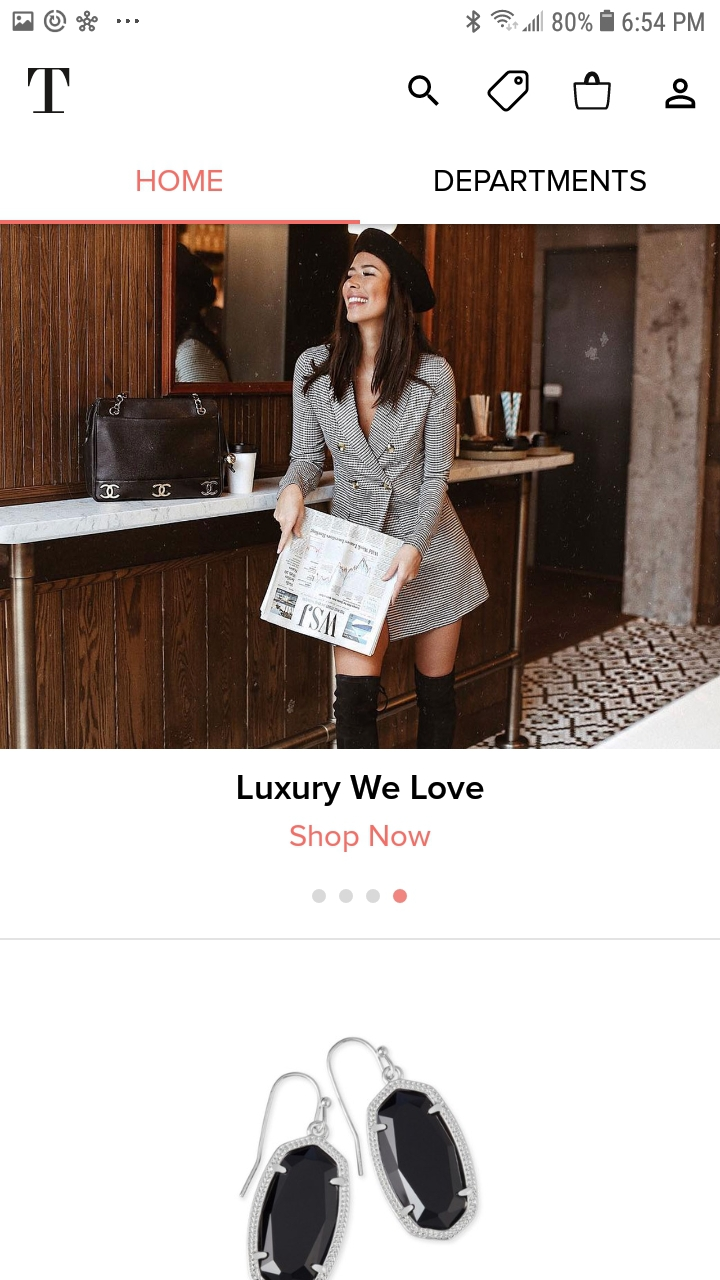Icon: (487, 70, 530, 113), (573, 72, 612, 111), (408, 75, 440, 107), (665, 79, 697, 110)
Image: (1, 225, 720, 749), (239, 1036, 480, 1280)
PageIndicator: (312, 888, 408, 904)
Text: (237, 775, 485, 807), (435, 170, 647, 193), (290, 825, 431, 853), (28, 68, 72, 115), (137, 170, 223, 193)
UpperTaskBar: (1, 1, 720, 34)
